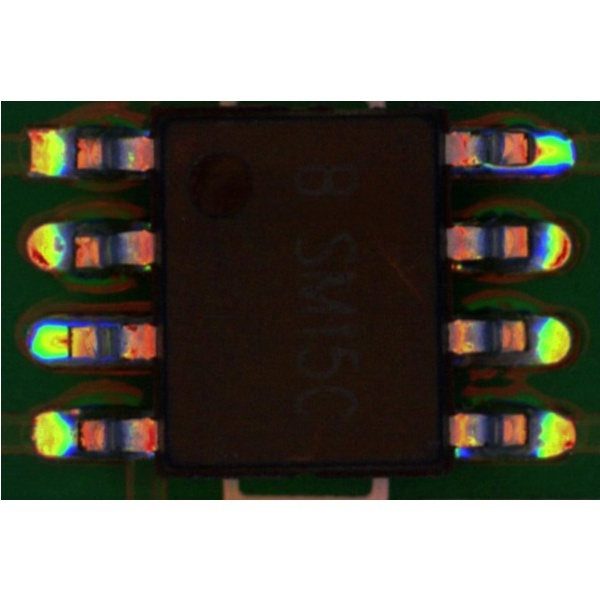Bad_podu: (519, 138, 544, 165), (58, 329, 80, 357)
Bad_qiaojiao: (477, 165, 527, 173)
